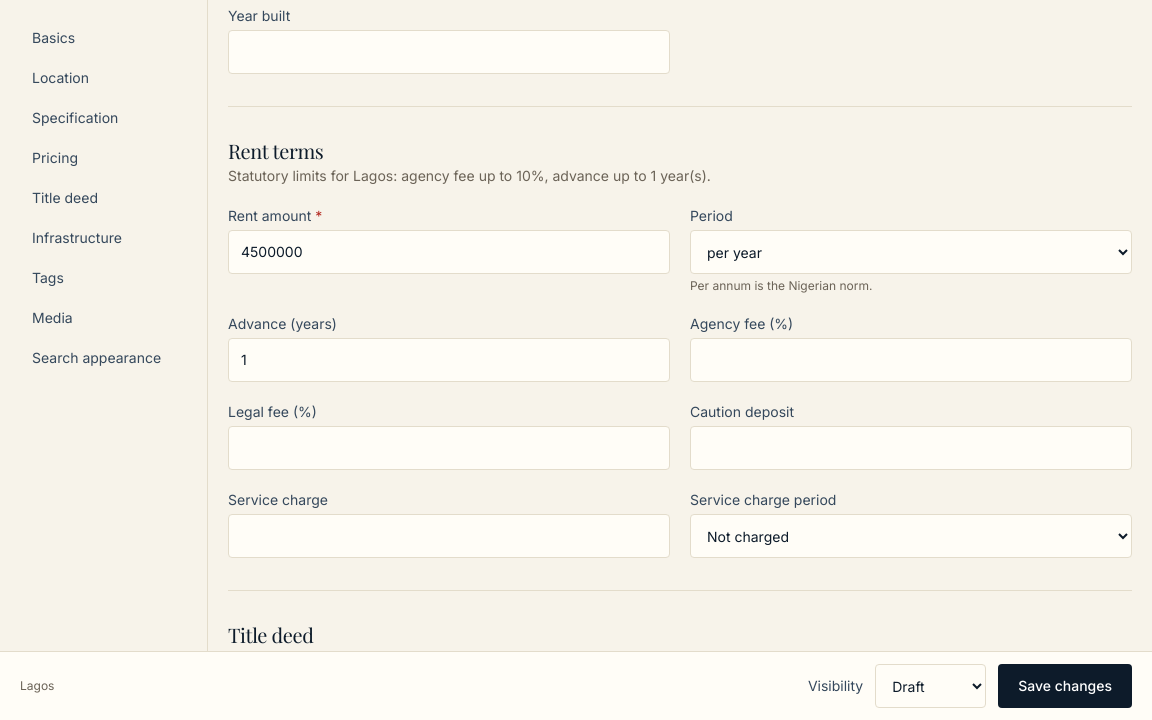
Scenario: PropertyForm › warns about the Lagos agency-fee cap before submitting
The image size is (1152, 720).
(page scrolled)
In the number field labelled "Agency fee (%)": (911, 360) [690,338,1132,382], type "11"
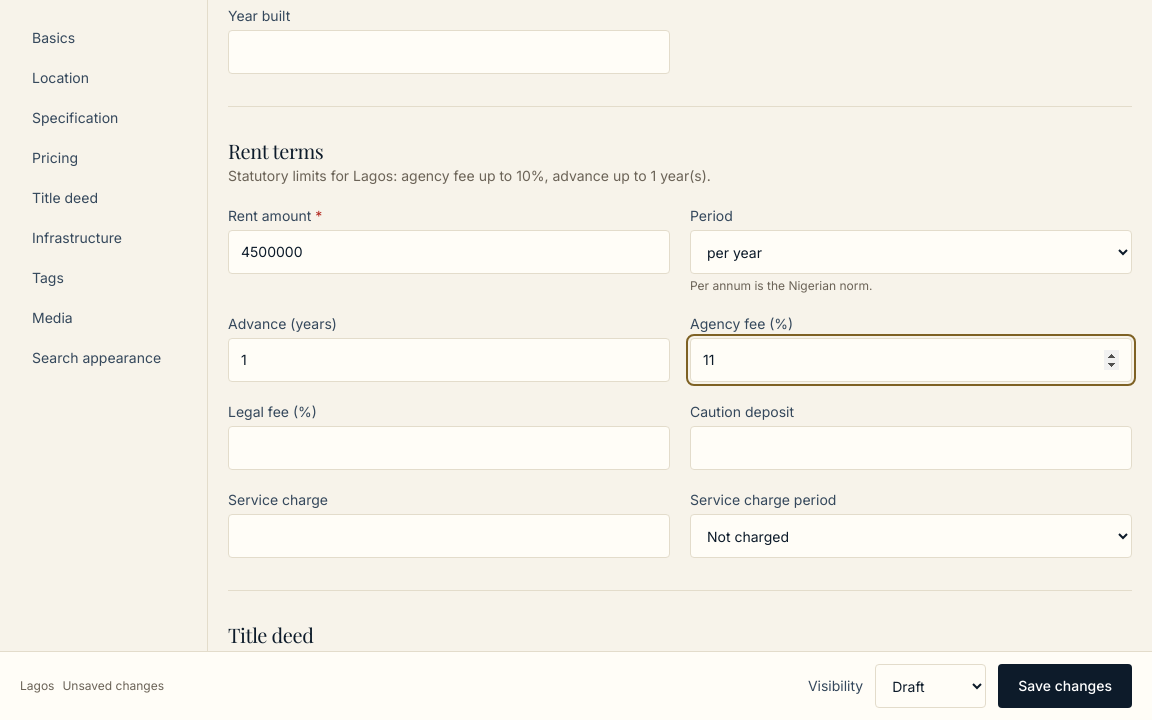
Click the button "Save changes": (1065, 686) [998,664,1132,708]
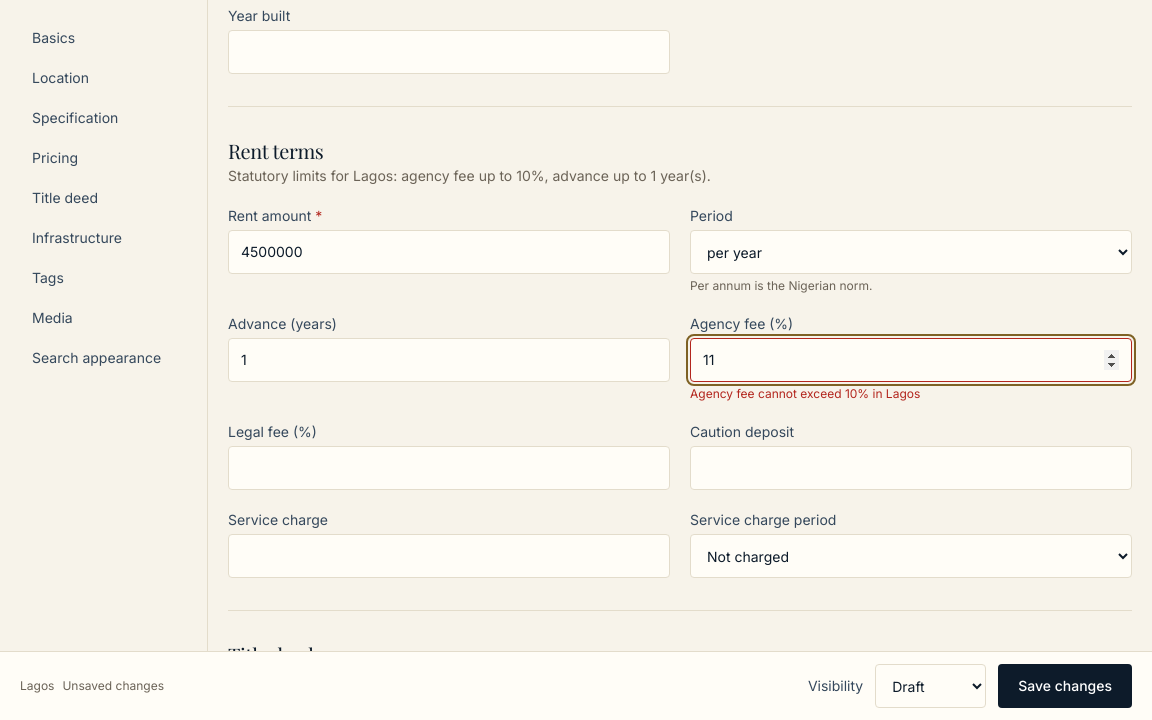
expect the text "Agency fee cannot exceed 10% in Lagos" is shown: met, box [690,386,920,401]
